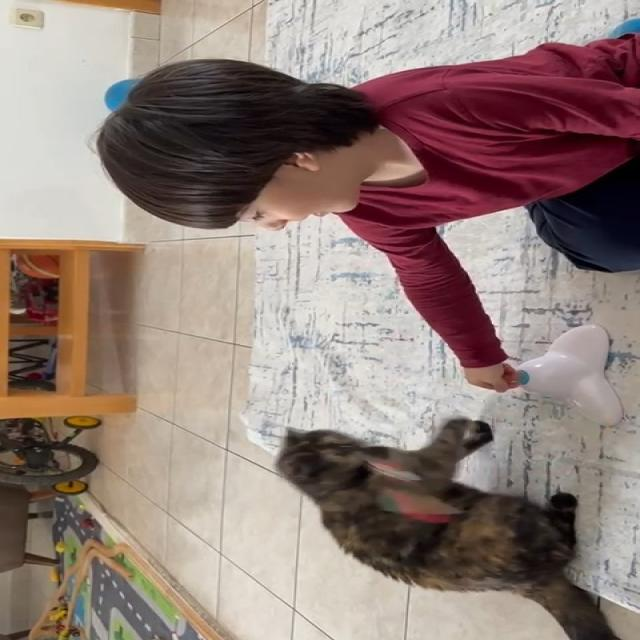authorized: (272, 417, 621, 639)
